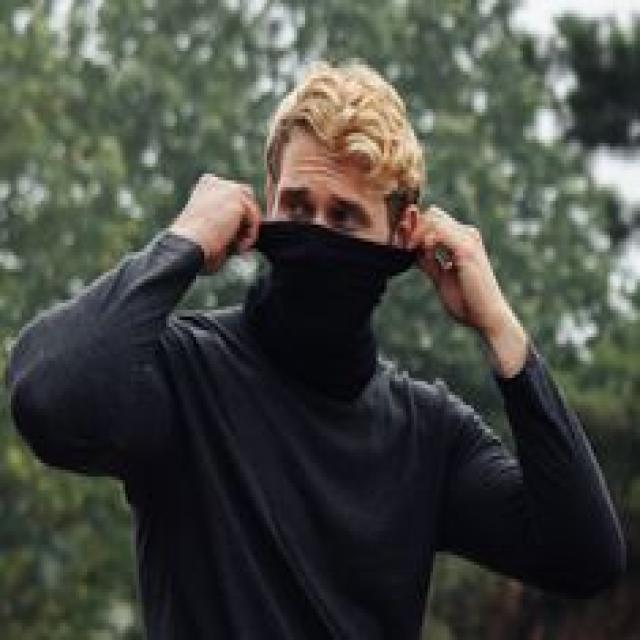8_ropa_rostro: (199, 196, 462, 359)
